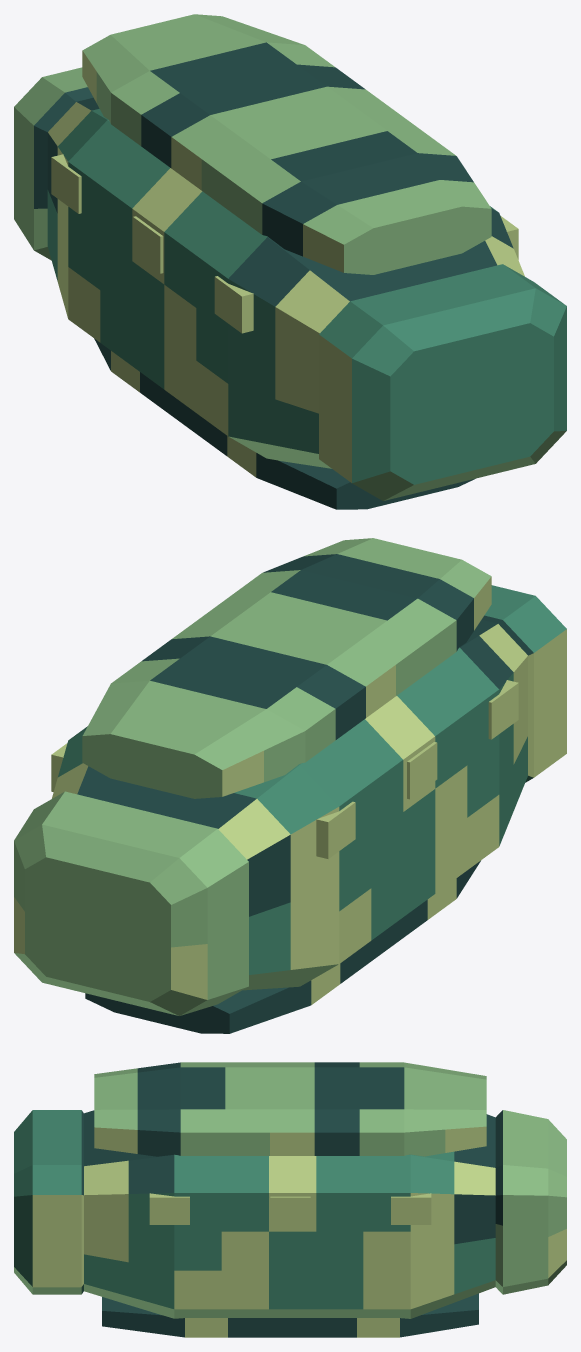
File: Cyanobacteria.gltf
The picture shows the model from 3 angles, top to bottom: view 1: azimuth 30°, elevation 25°; view 2: azimuth 150°, elevation 25°; view 3: azimuth 270°, elevation 25°; orthographic projection. The views are drawn at different scales.
Parts seen in each view (by area): view 1: Root; view 2: Root; view 3: Root.
Boxes of the visible parts, bbox=[...] form: Root: bbox=[14, 14, 566, 509]; Root: bbox=[14, 538, 566, 1033]; Root: bbox=[14, 1062, 566, 1337].
Size of the model in its own units: 0.94 by 0.965 by 2.2.
1 material, 1 textured.
